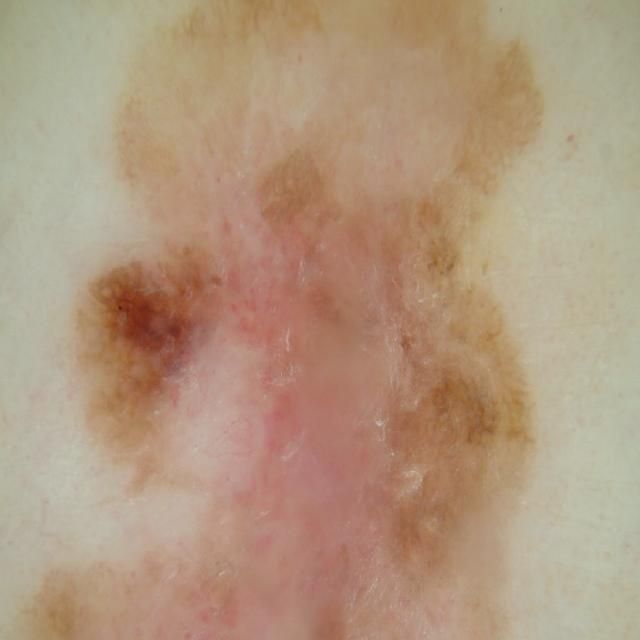Melanoma: (69, 77, 477, 628)
